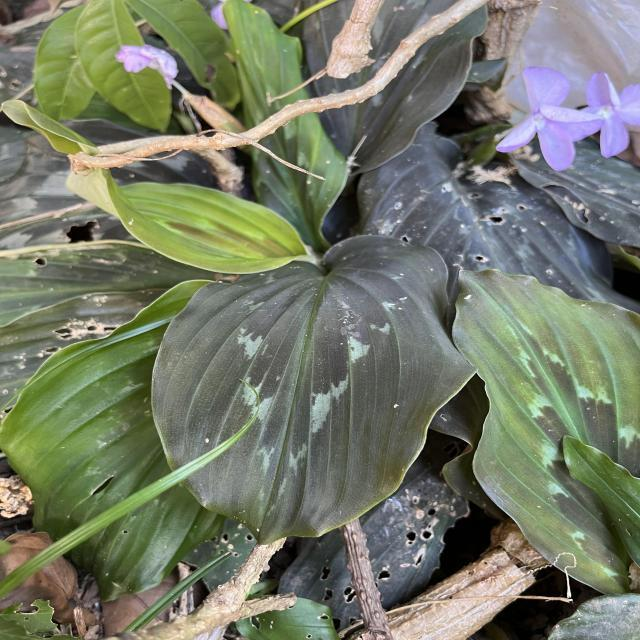Kaempferia galanga linn: (146, 230, 481, 548), (450, 266, 640, 596)
